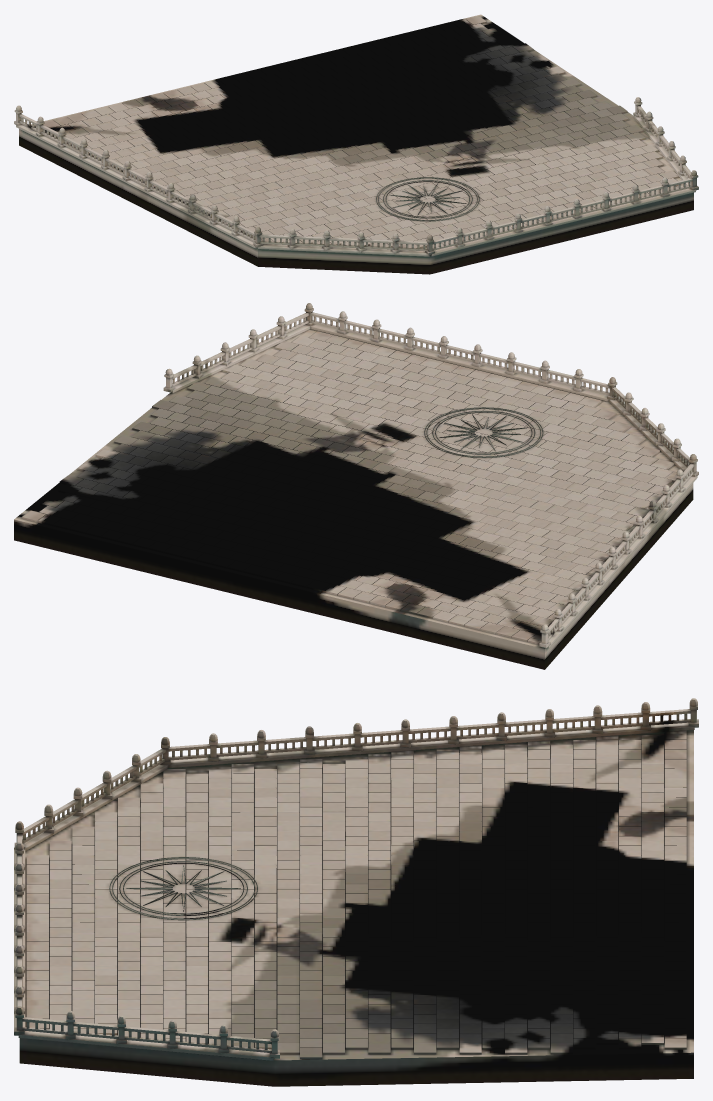
The model's file is terrace-expanded.glb.
The picture shows the model from 3 angles, top to bottom: view 1: azimuth 30°, elevation 25°; view 2: azimuth 150°, elevation 25°; view 3: azimuth 270°, elevation 25°; orthographic projection. The views are drawn at different scales.
Parts seen in each view (by area): view 1: Expanded coastal Cycles terrace; view 2: Expanded coastal Cycles terrace; view 3: Expanded coastal Cycles terrace.
Part boxes in pixels (x1,y1,x2,y2): Expanded coastal Cycles terrace: (14,14,698,274); Expanded coastal Cycles terrace: (14,303,698,669); Expanded coastal Cycles terrace: (14,698,698,1086).
Bounding box in the file's own units: 43.62 × 3.47 × 37.59.
Materials: 1 (1 with a texture image).
